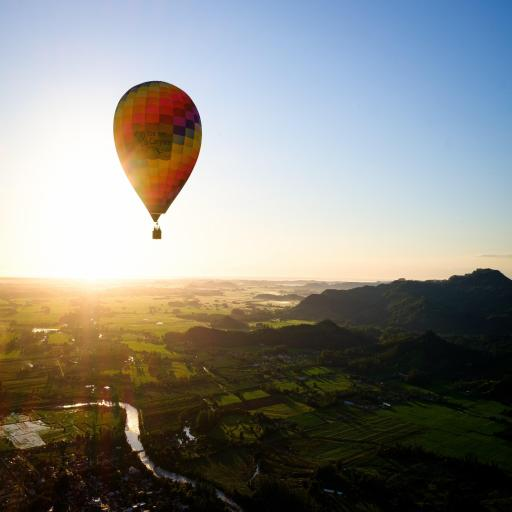hot air ballon: (112, 80, 203, 242)
